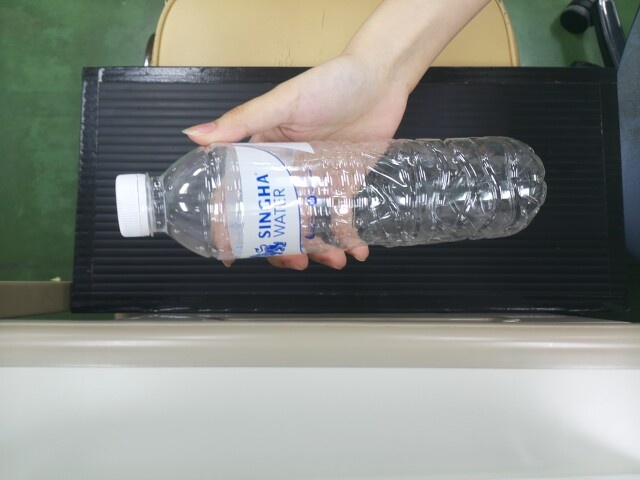plastic_bottle: (110, 148, 545, 242)
